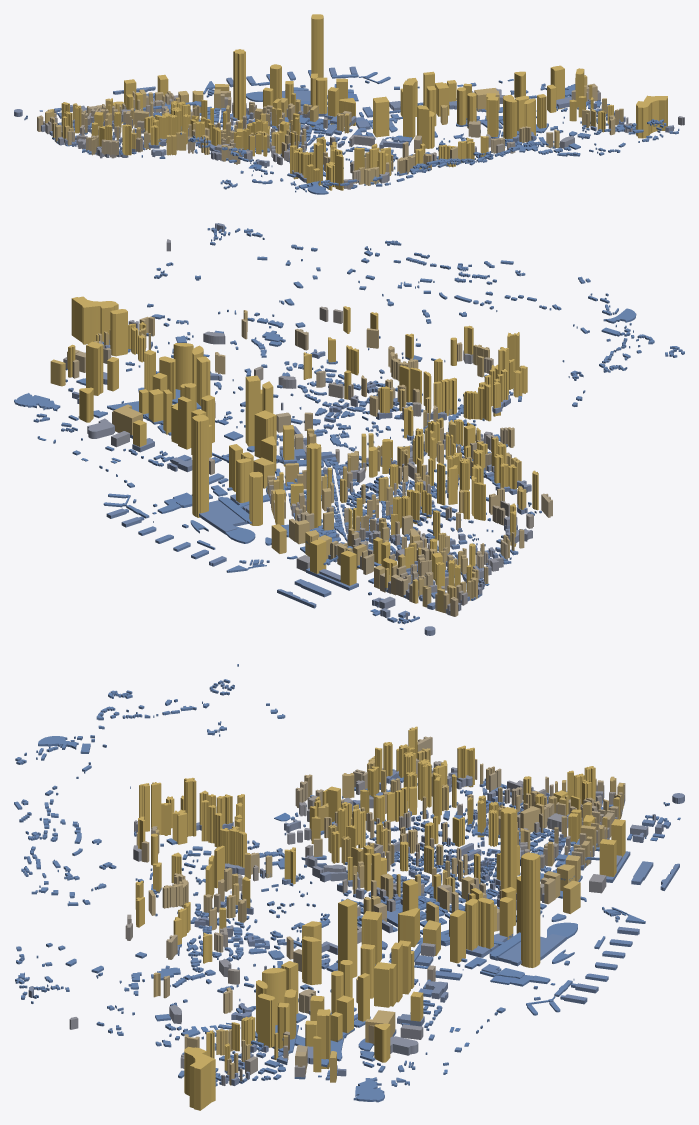
File: buildings.glb
The picture shows the model from 3 angles, top to bottom: view 1: azimuth 30°, elevation 25°; view 2: azimuth 150°, elevation 25°; view 3: azimuth 270°, elevation 25°; orthographic projection. The views are drawn at different scales.
Visible parts, largest first — view 1: buildings; view 2: buildings; view 3: buildings.
Boxes of the visible parts, x1=… form: buildings: x1=14, y1=14, x2=684, y2=194; buildings: x1=14, y1=223, x2=684, y2=635; buildings: x1=14, y1=664, x2=684, y2=1110.
Size of the model in its own units: 2631 by 542 by 2345.
